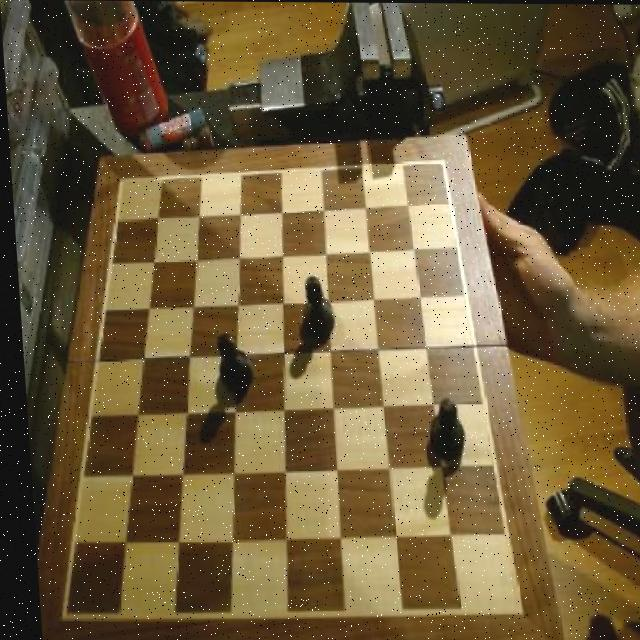black-knight: (420, 398, 460, 471), (208, 330, 249, 397), (296, 274, 335, 341)
